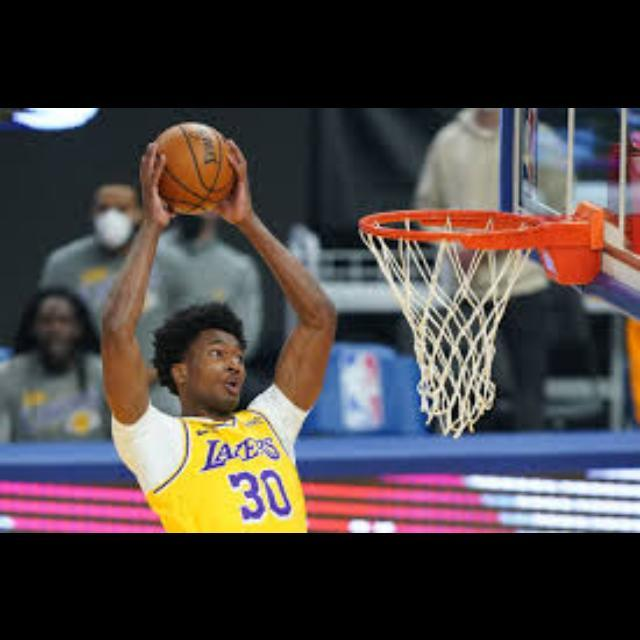basketball: (152, 121, 236, 217)
rim: (358, 208, 538, 432)
